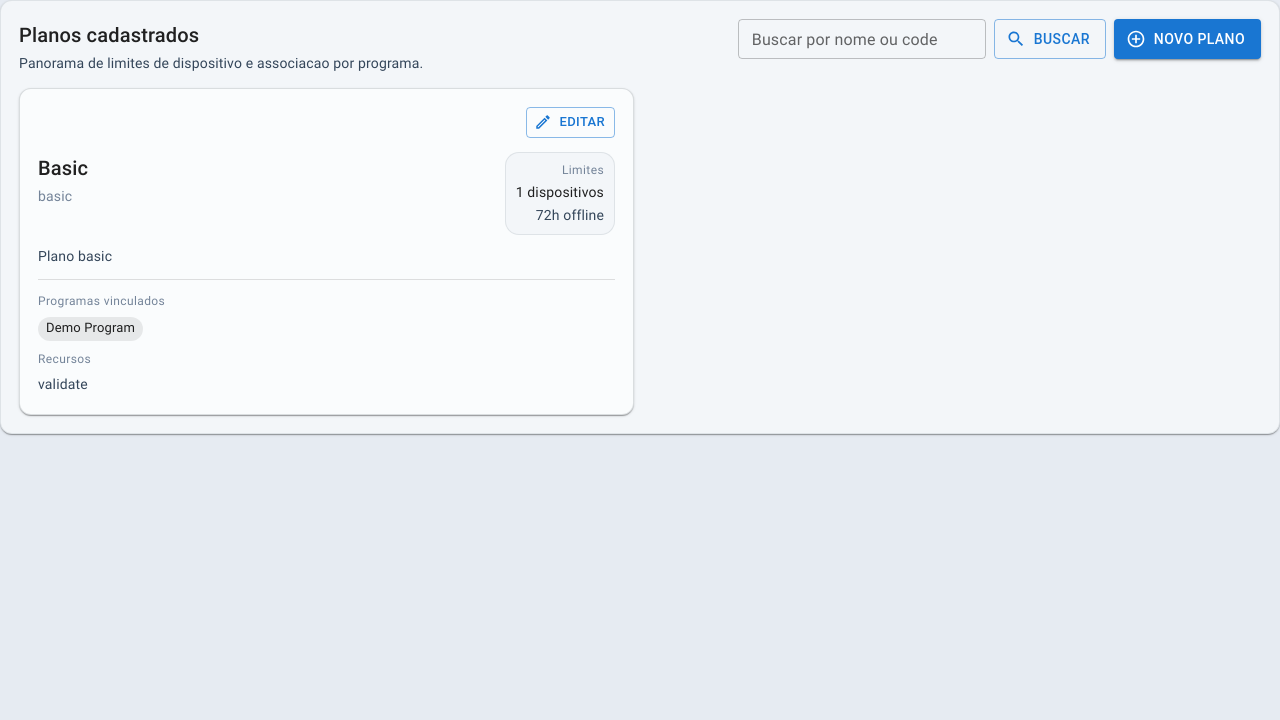
Scenario: PlansPanel › validates minimum one linked program on submit
The width and height of the screenshot is (1280, 720).
Click the button "Novo plano" at (1187, 39), box x1=1114 y1=19 x2=1261 y2=59
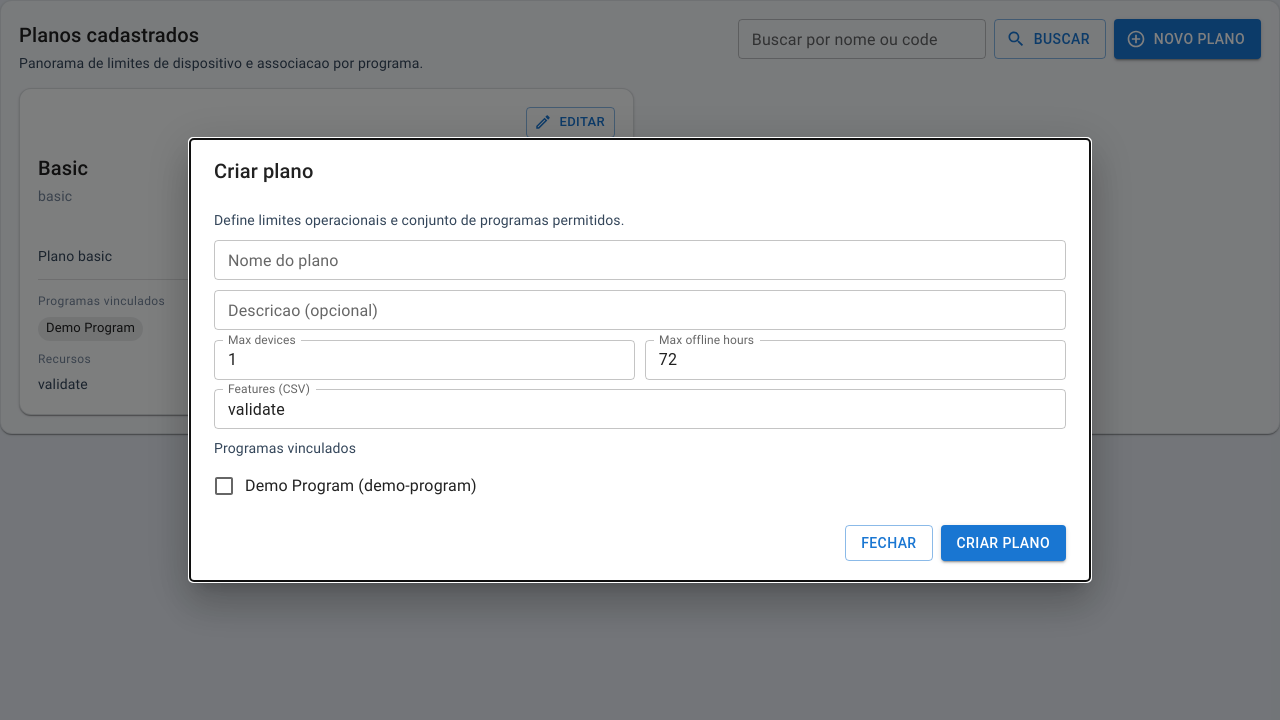
Type "Starter Plan" into the field labelled "Nome do plano" at (640, 260), box x1=214 y1=240 x2=1066 y2=280
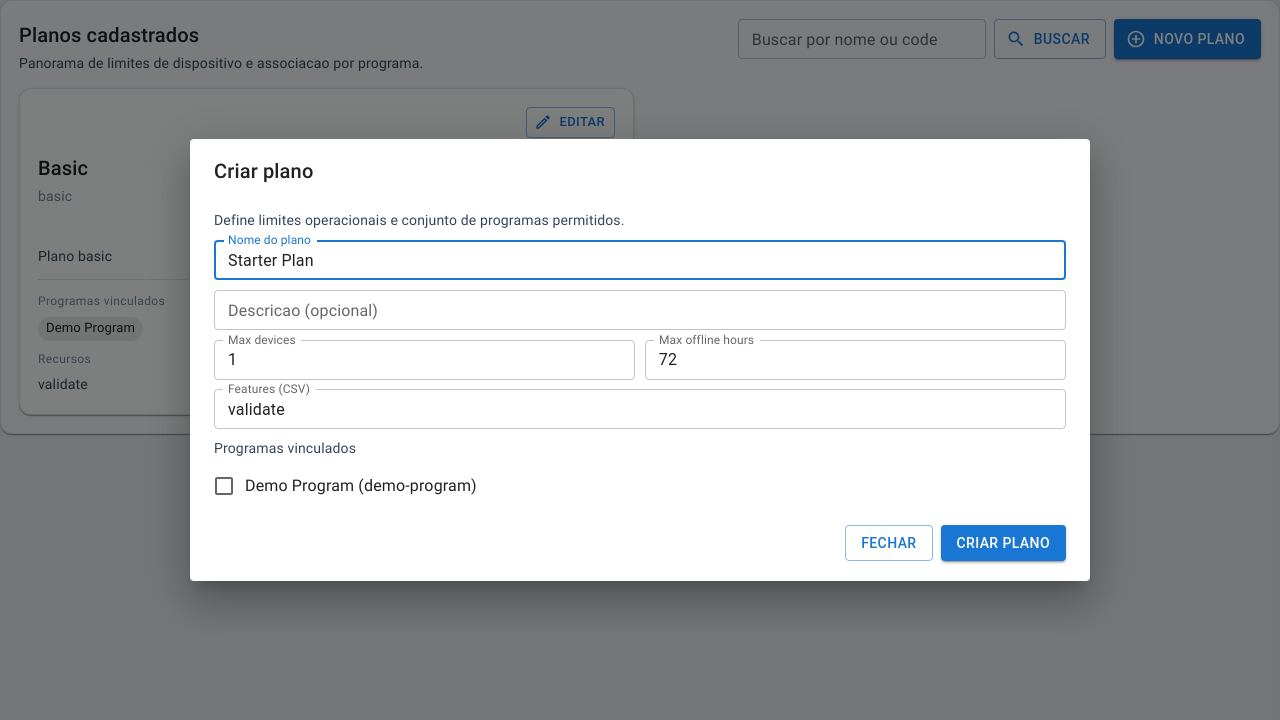
Click the button "Criar plano" at (1003, 543), box x1=940 y1=525 x2=1066 y2=561
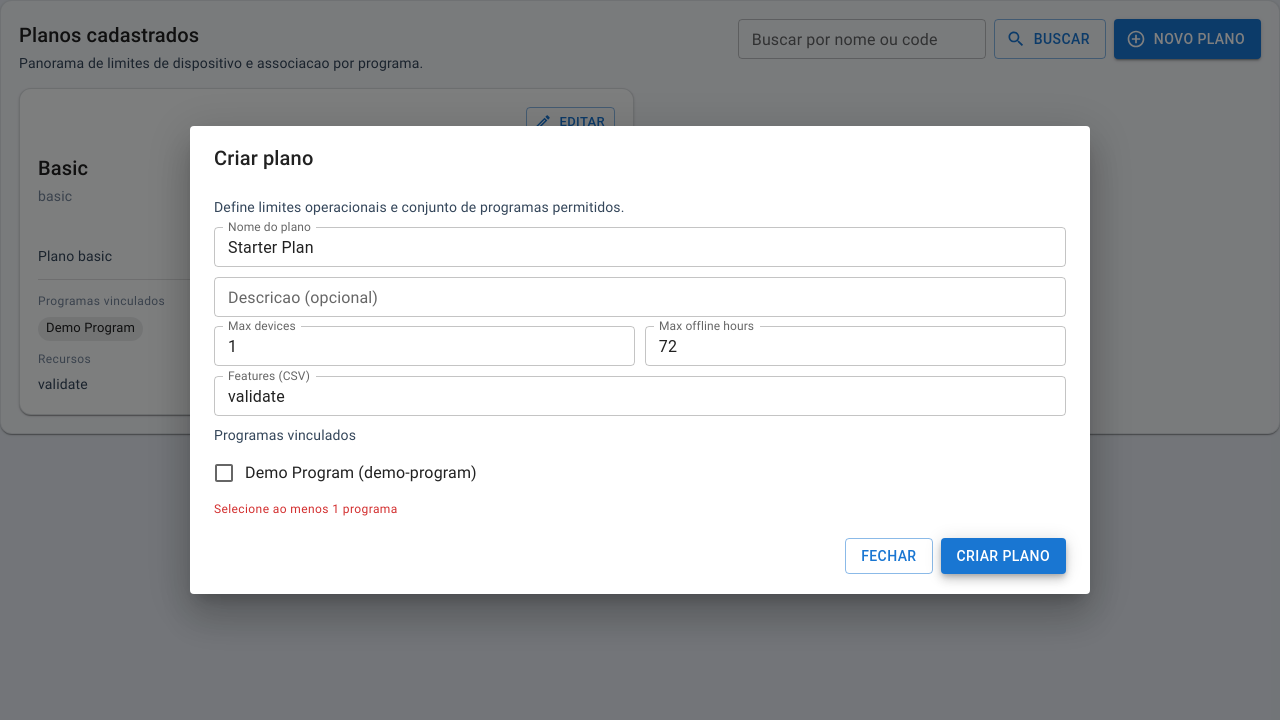
Check: the text "Selecione ao menos 1 programa" is shown, box x1=214 y1=502 x2=398 y2=516
